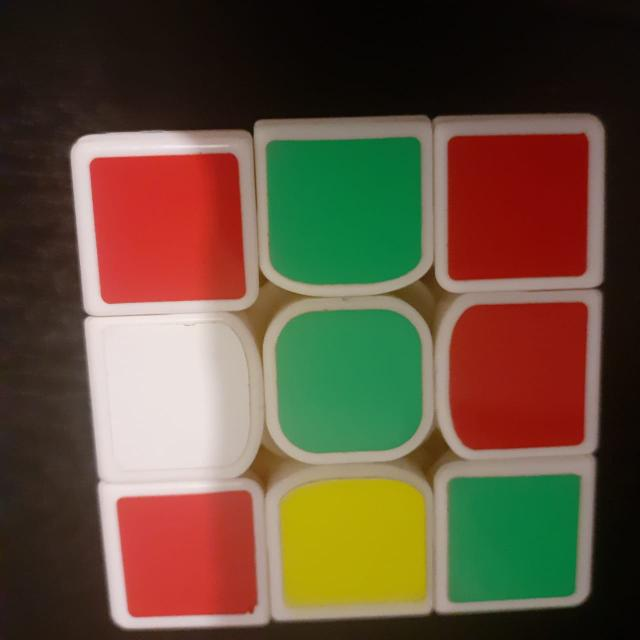Green: (256, 127, 429, 291), (268, 302, 432, 460), (435, 472, 583, 606)
Red: (78, 138, 252, 308), (88, 320, 255, 476), (438, 125, 596, 285), (444, 300, 596, 456), (110, 500, 262, 622)
Yellow: (270, 482, 432, 626)
